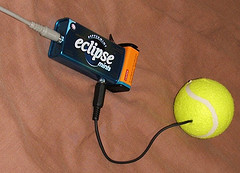tennis ball: (172, 77, 235, 141)
